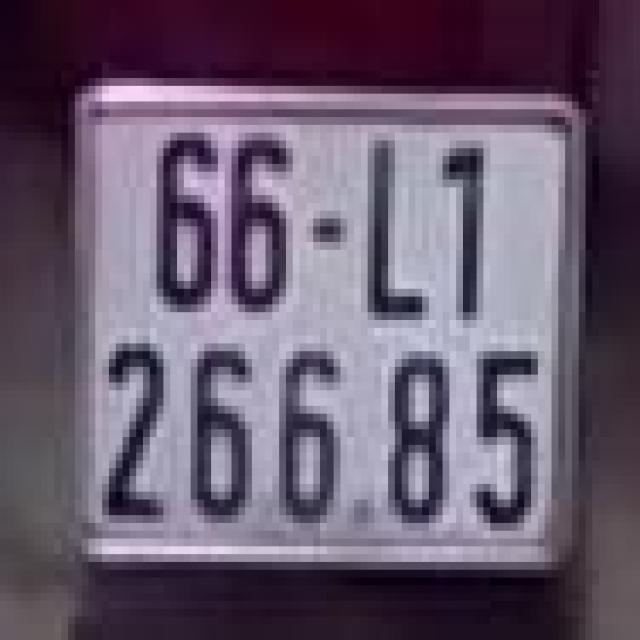1: (442, 136, 504, 332)
2: (92, 332, 174, 527)
5: (463, 336, 545, 538)
6: (140, 125, 228, 320), (225, 113, 306, 316), (269, 340, 344, 534), (187, 339, 249, 527)
8: (384, 340, 452, 534)
L: (361, 128, 436, 332)
